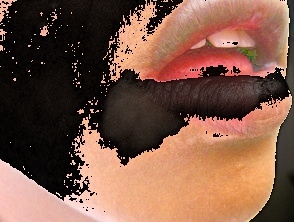vitiligo: (71, 68, 282, 193)
